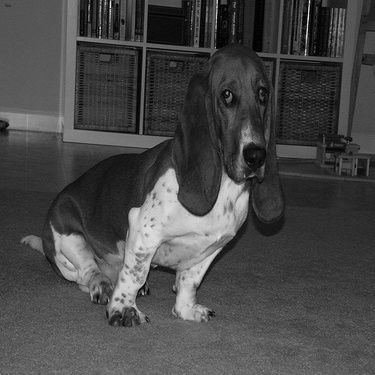dog: (20, 37, 291, 329)
